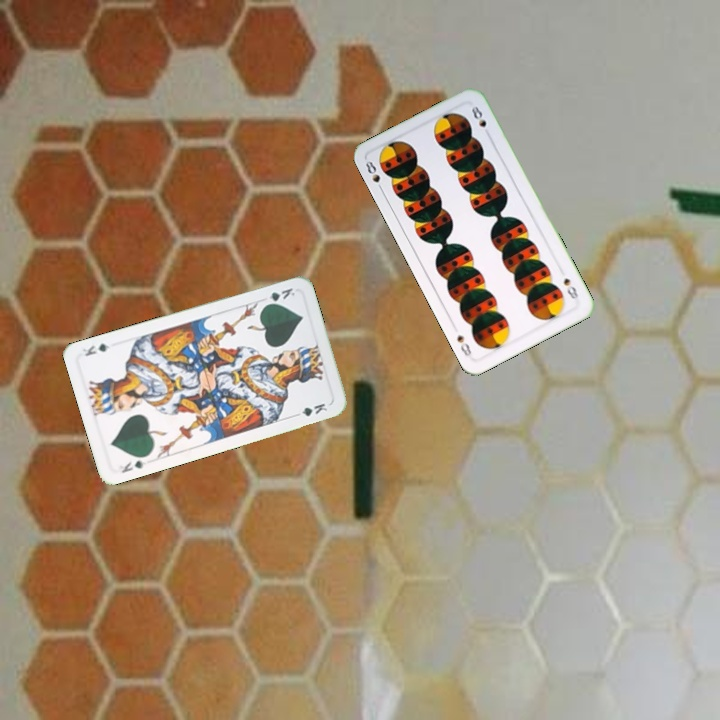GK: (258, 284, 297, 308), (115, 456, 148, 475)
S8: (360, 157, 386, 194), (559, 274, 581, 302)
